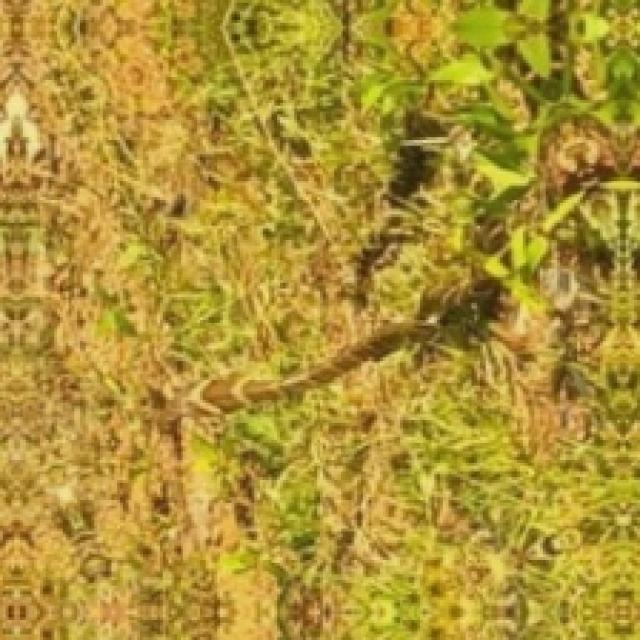king cobra: (185, 210, 551, 414)
